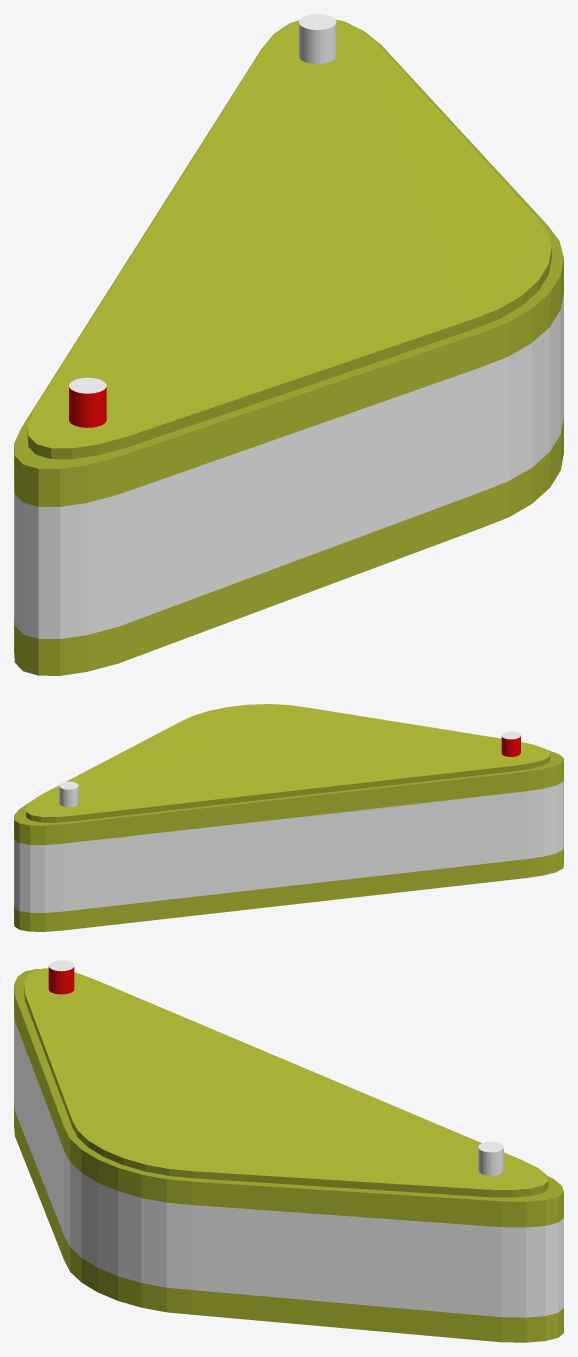
The model's file is Slingshot.obj.
The picture shows the model from 3 angles, top to bottom: view 1: azimuth 30°, elevation 25°; view 2: azimuth 150°, elevation 25°; view 3: azimuth 270°, elevation 25°; orthographic projection. The views are drawn at different scales.
Visible parts, largest first — view 1: Cube; view 2: Cube; view 3: Cube.
Boxes of the visible parts, x1=… form: Cube: x1=14, y1=14, x2=563, y2=675; Cube: x1=14, y1=704, x2=563, y2=931; Cube: x1=14, y1=960, x2=563, y2=1342.
Bounding box in the file's own units: 7.5 × 2.58 × 7.49.
